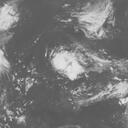cyclone: (50, 46, 111, 81)
